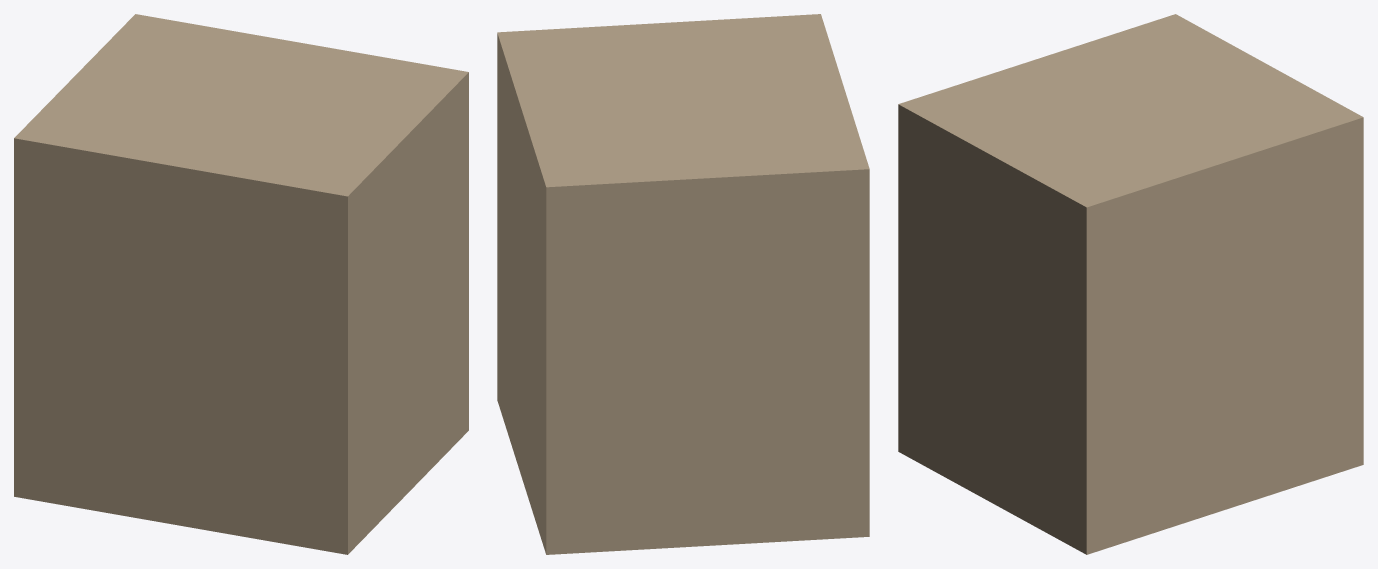
Rendered from bld_101979824.dae.
The picture shows the model from 3 angles, left to right: view 1: azimuth 30°, elevation 25°; view 2: azimuth 150°, elevation 25°; view 3: azimuth 270°, elevation 25°; orthographic projection. The views are drawn at different scales.
Visible parts, largest first — view 1: bld_101979824; view 2: bld_101979824; view 3: bld_101979824.
Part boxes in pixels (x1,y1,x2,y2): bld_101979824: [14, 14, 468, 554]; bld_101979824: [497, 14, 869, 554]; bld_101979824: [898, 14, 1363, 554].
Bounding box in the file's own units: 9.55 × 9.71 × 8.
